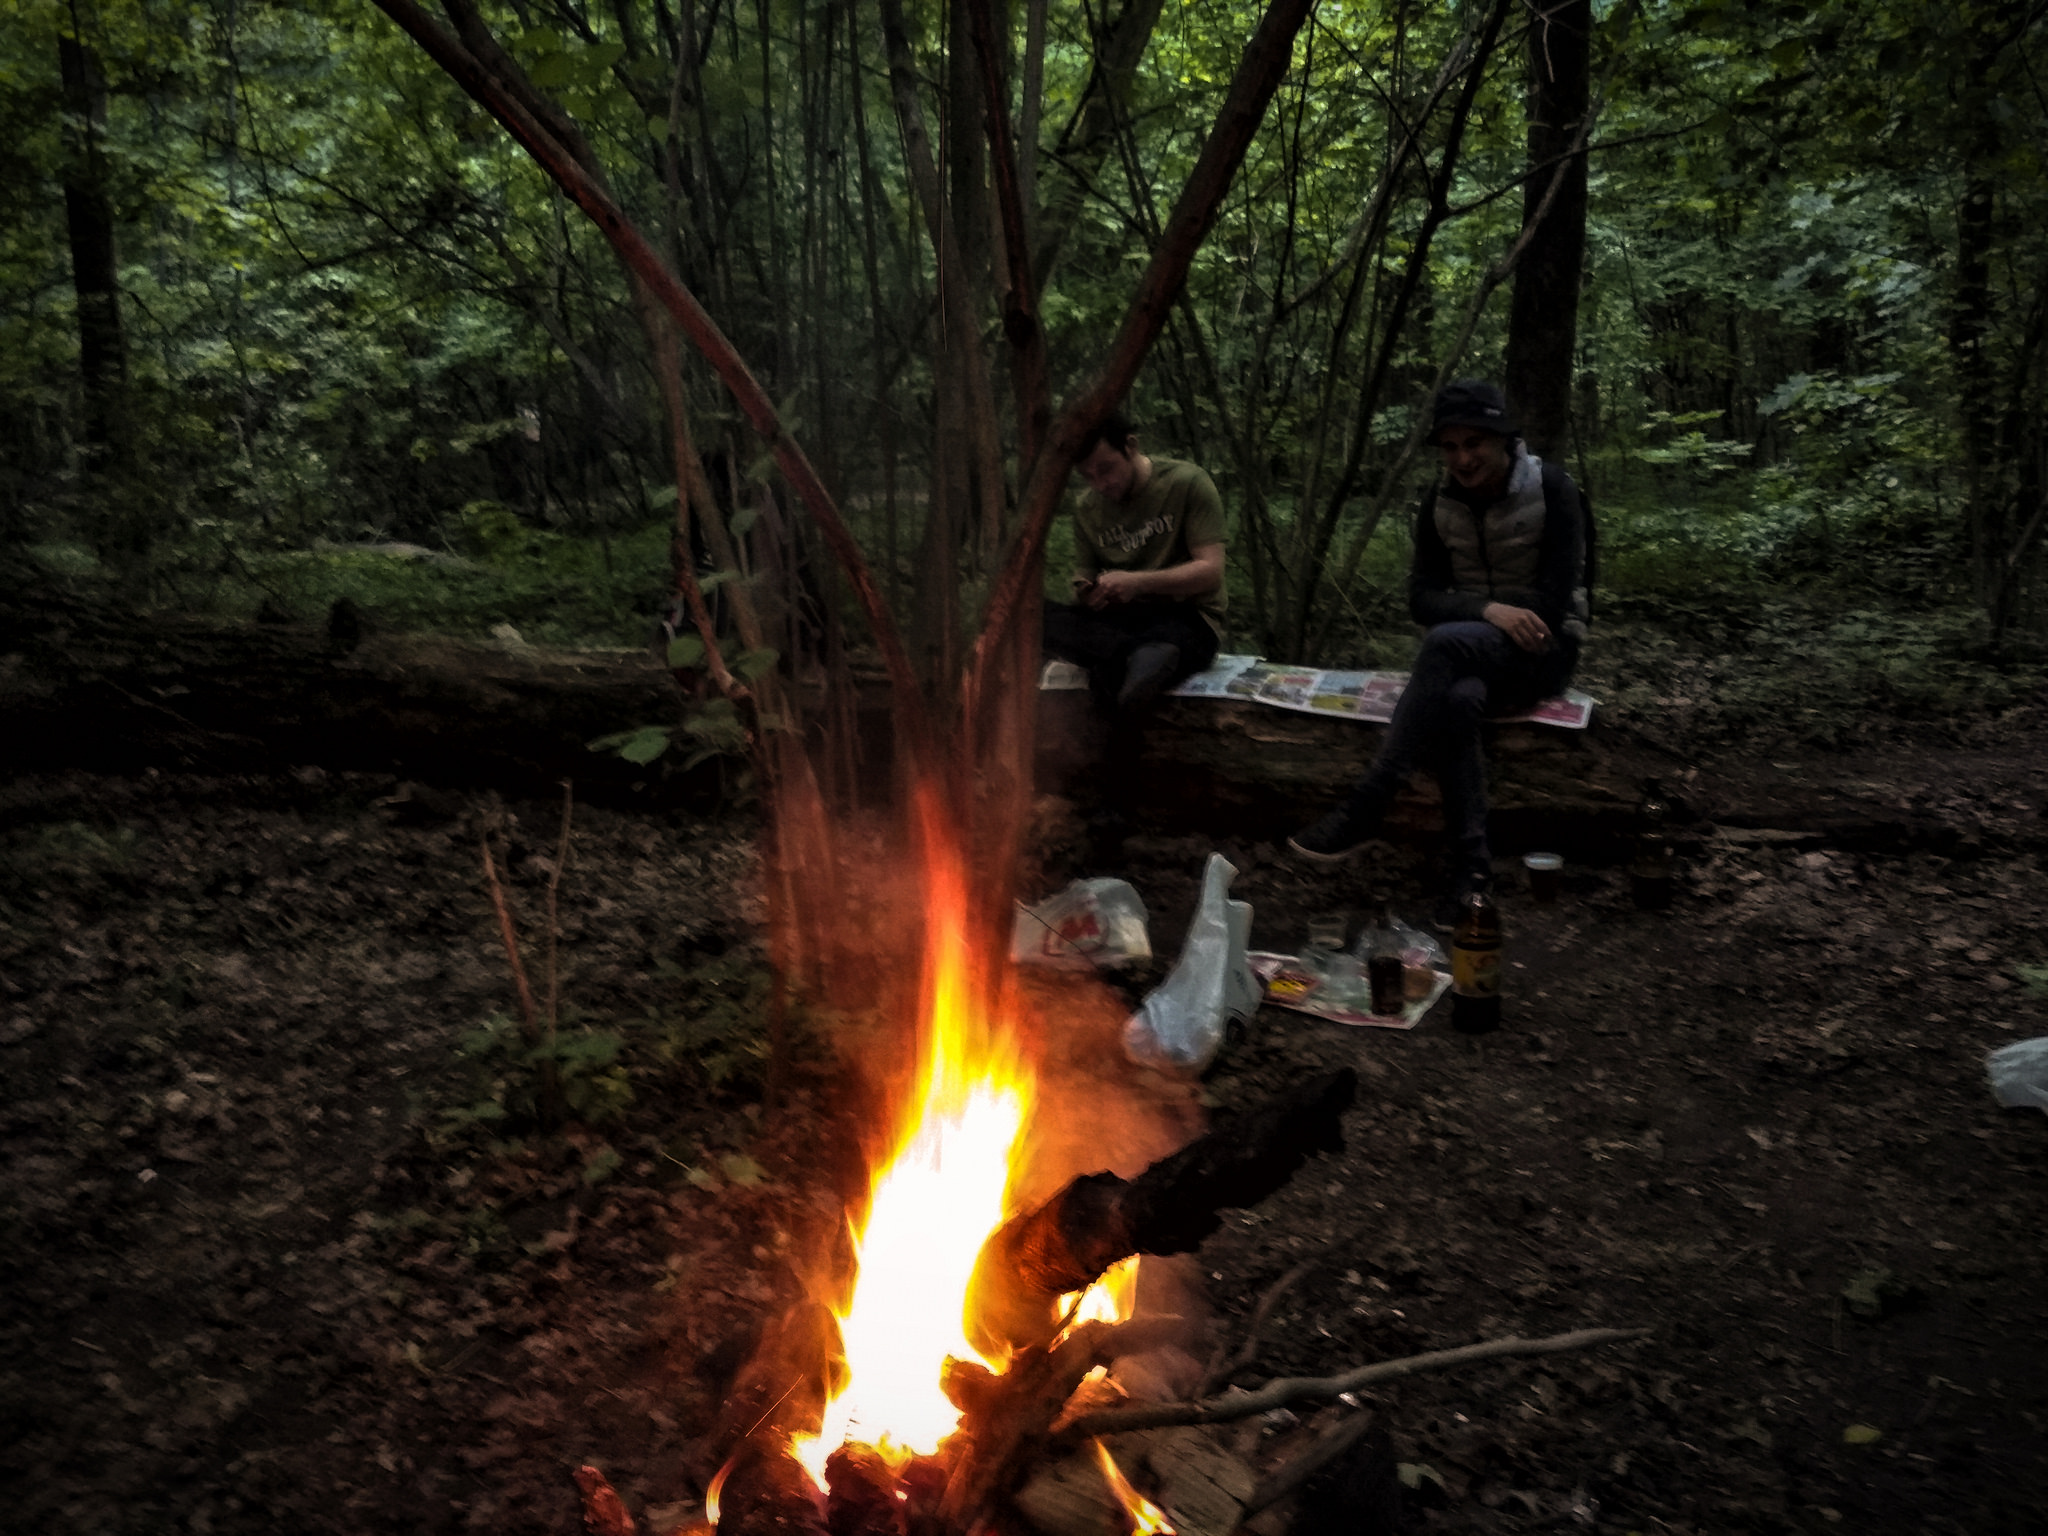fire: (705, 886, 1159, 1491)
